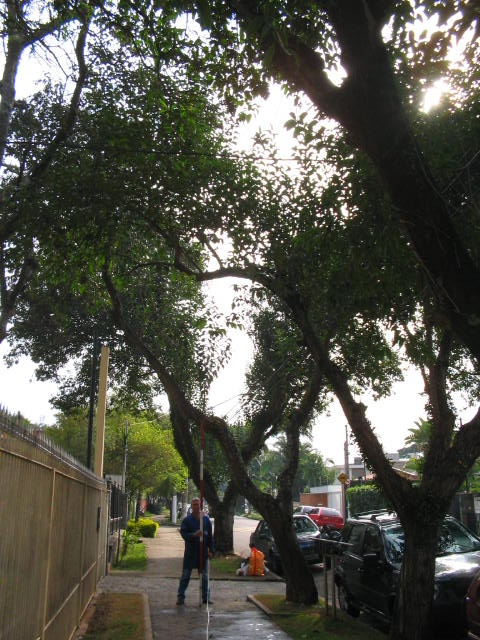crown: (5, 60, 477, 394)
stem: (380, 526, 453, 639), (257, 514, 334, 605)
stick: (192, 418, 209, 606)
tree: (2, 59, 477, 606)
